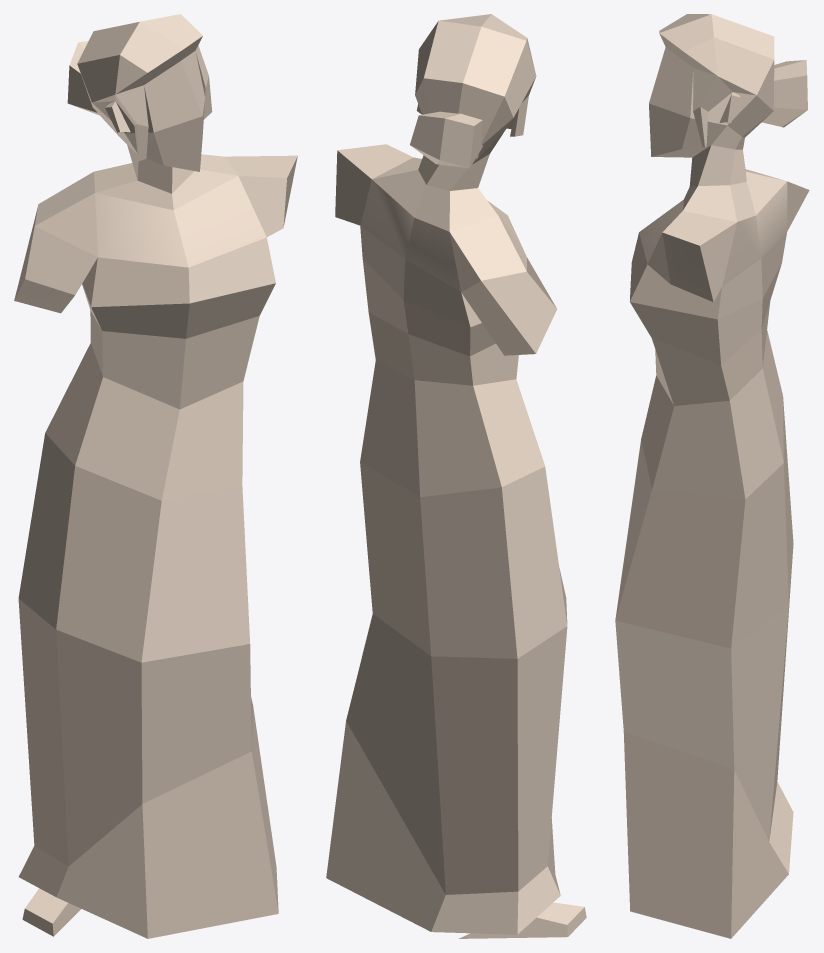
File: empire-statue-small-aphrodite-empire.glb
The picture shows the model from 3 angles, left to right: view 1: azimuth 30°, elevation 25°; view 2: azimuth 150°, elevation 25°; view 3: azimuth 270°, elevation 25°; orthographic projection. The views are drawn at different scales.
Parts seen in each view (by area): view 1: SM_Statue_Small_Aphrodite_Empire; view 2: SM_Statue_Small_Aphrodite_Empire; view 3: SM_Statue_Small_Aphrodite_Empire.
Part boxes in pixels (x1=…): SM_Statue_Small_Aphrodite_Empire: x1=14, y1=14, x2=297, y2=938; SM_Statue_Small_Aphrodite_Empire: x1=326, y1=14, x2=586, y2=938; SM_Statue_Small_Aphrodite_Empire: x1=615, y1=14, x2=809, y2=938.
Bounding box in the file's own units: 0.5332 × 1.78 × 0.3666.
